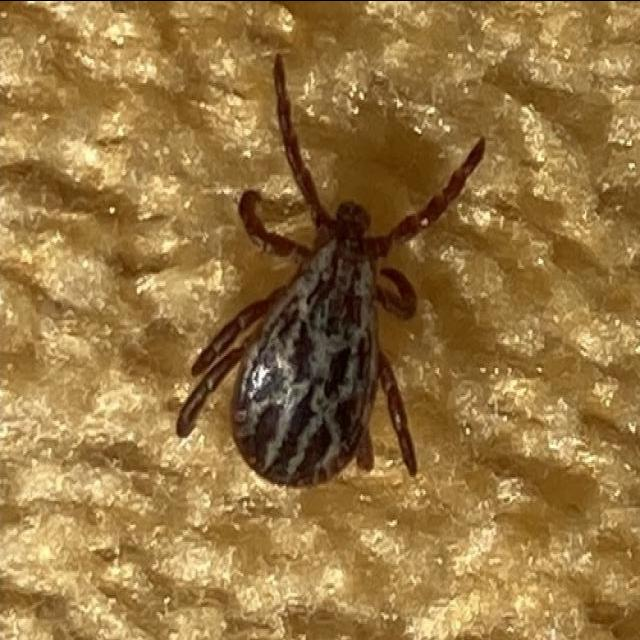Dermacentor Reticulatus-M: (175, 55, 484, 488)
